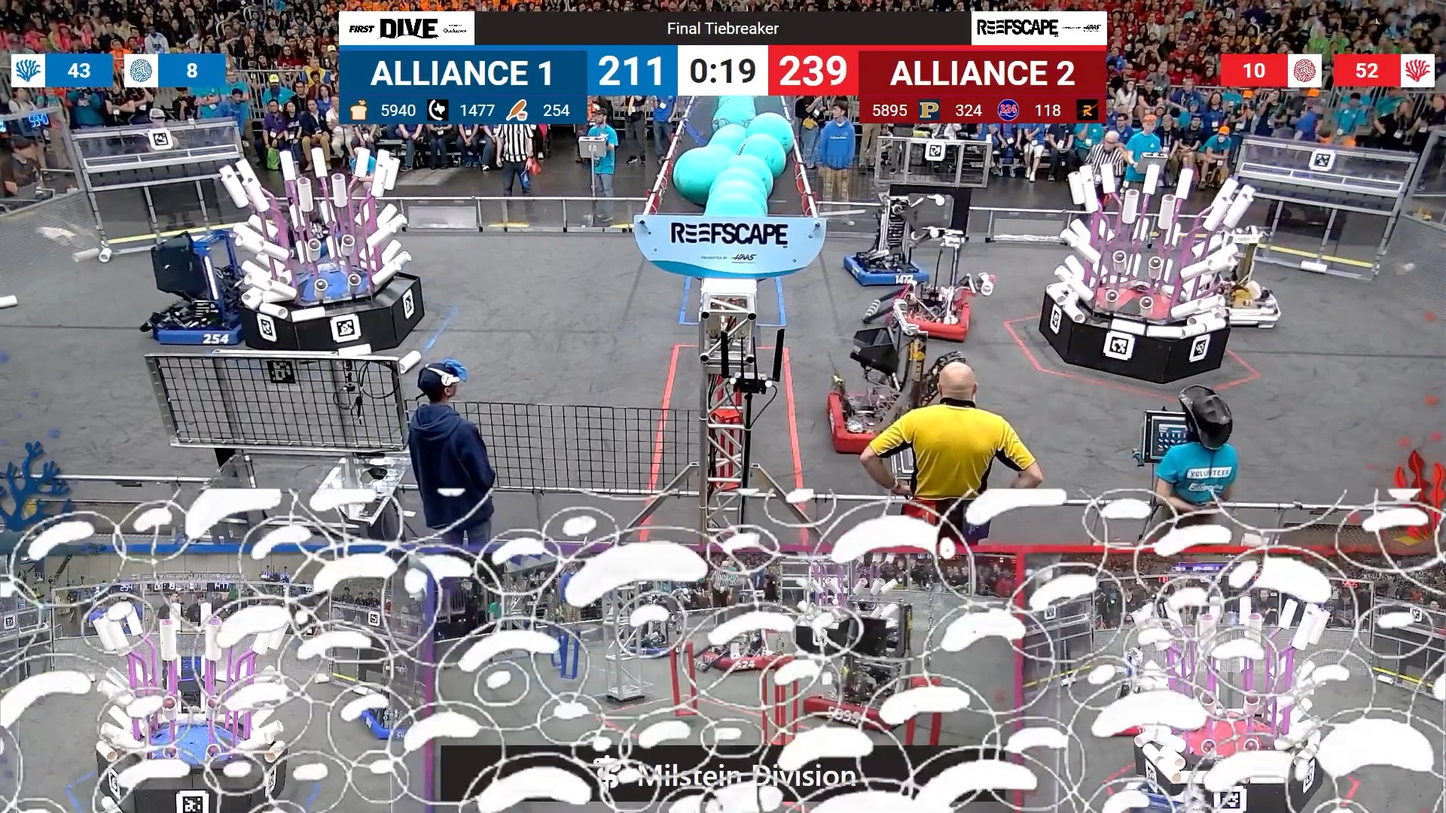bumpers: (817, 394, 915, 459), (152, 299, 251, 350), (801, 688, 917, 731), (891, 297, 980, 342), (346, 704, 441, 742), (835, 253, 929, 290), (701, 648, 796, 670), (614, 640, 689, 662)
